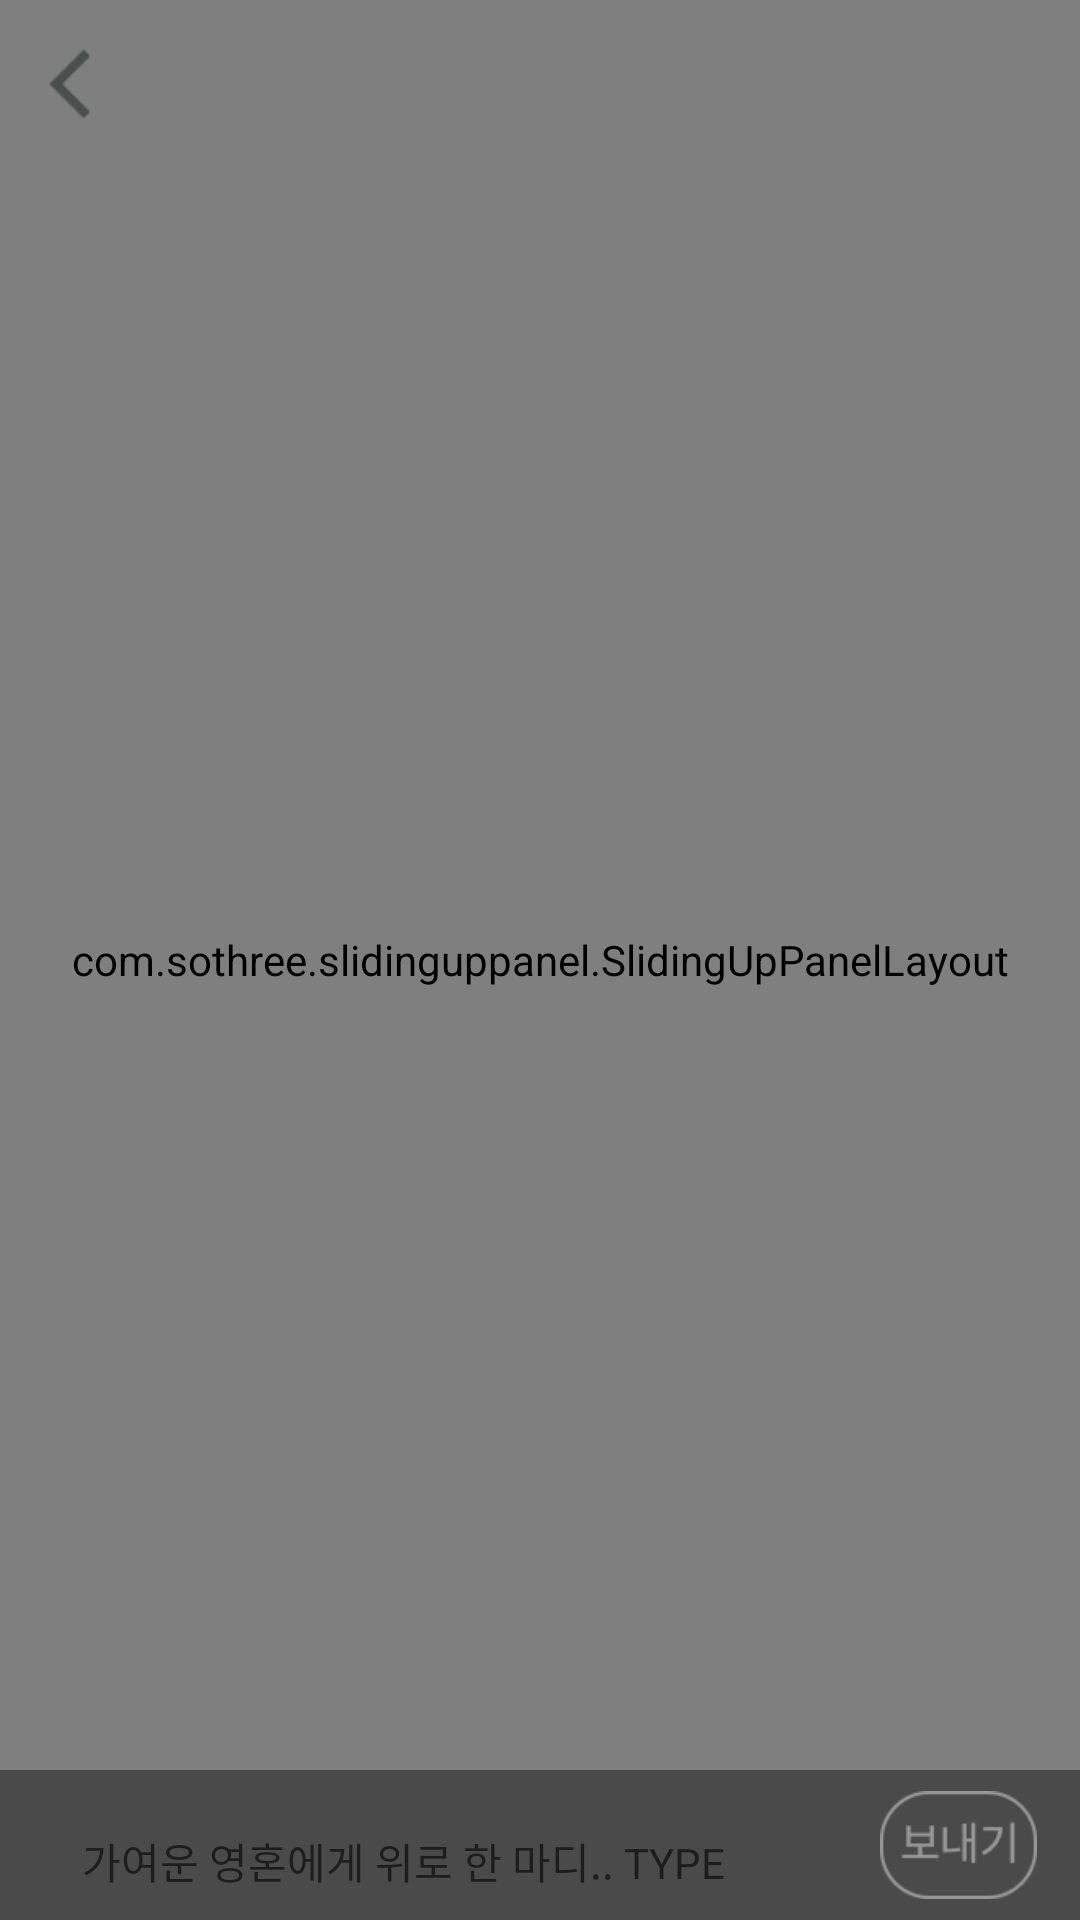

Screen size 1080×1920. Icon name, then its box in pixels as (x1, y1, x2, y2):
back: (50, 50, 90, 118)
